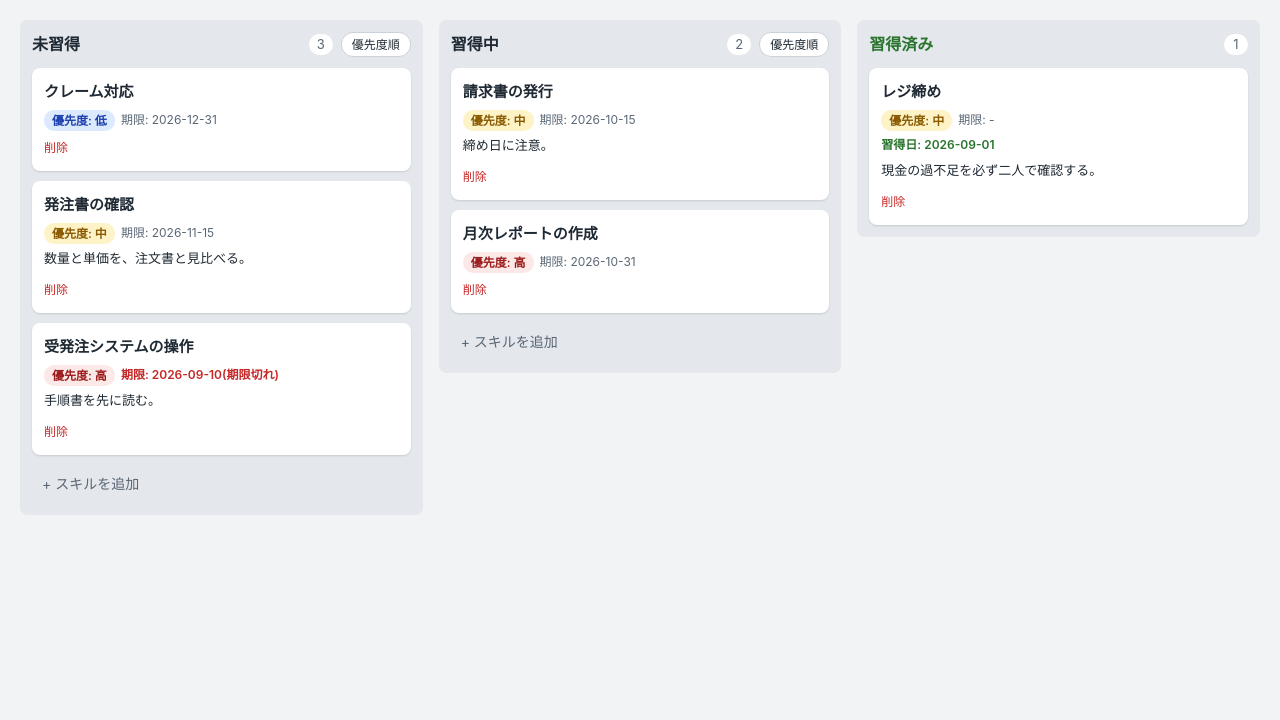
Test: Board: スキルの追加 › 入力して保存すると、API に追加して、その列の末尾にカードが増え、件数が変わり、フォームが閉じる
Click the button "+ スキルを追加" below "手順書を先に読む。" at (91, 483), box [32,465,411,503]
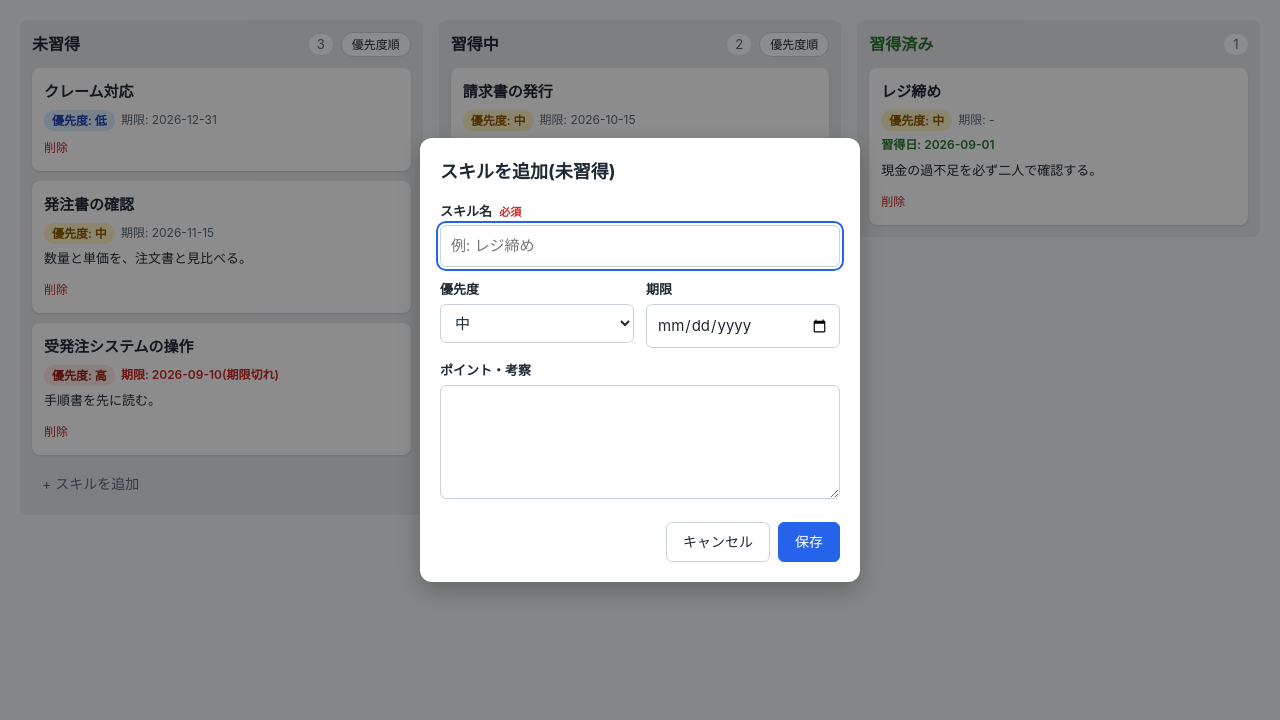
Type "新しいスキル" into the field labelled "スキル名 必須" at (640, 246), box [440,225,840,267]
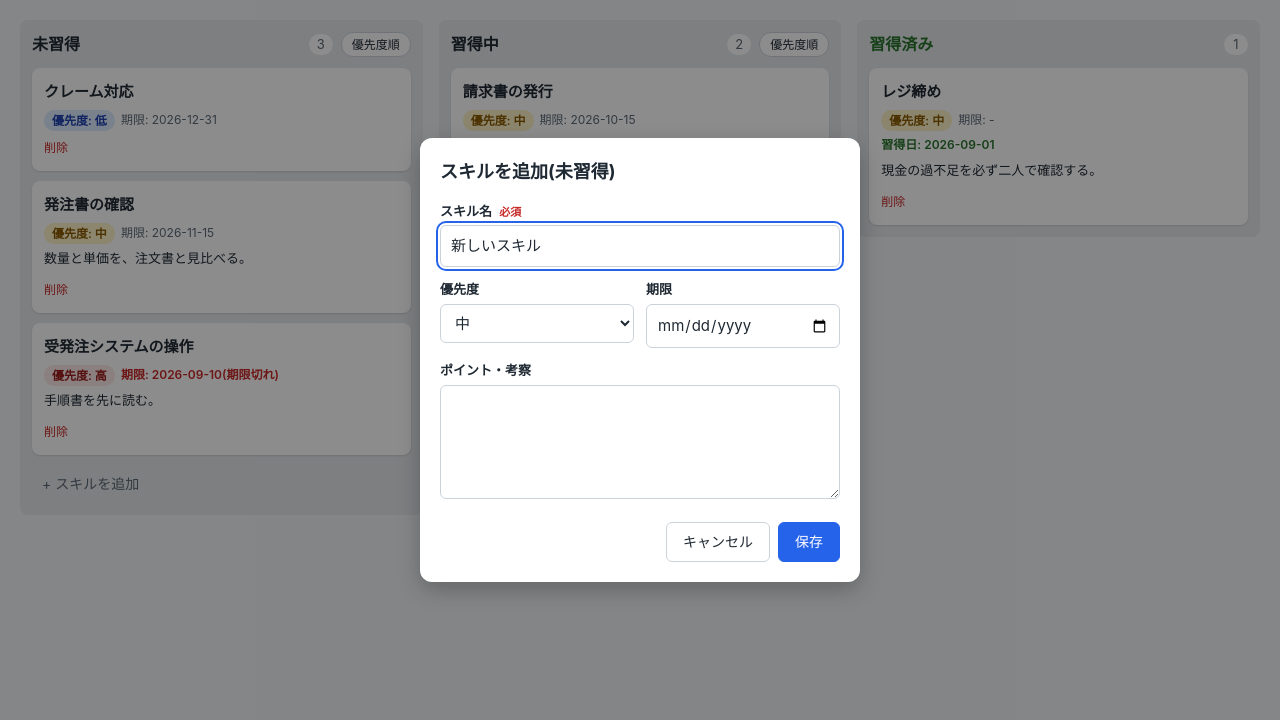
Click the button "保存" at (809, 542), box [778,522,840,562]
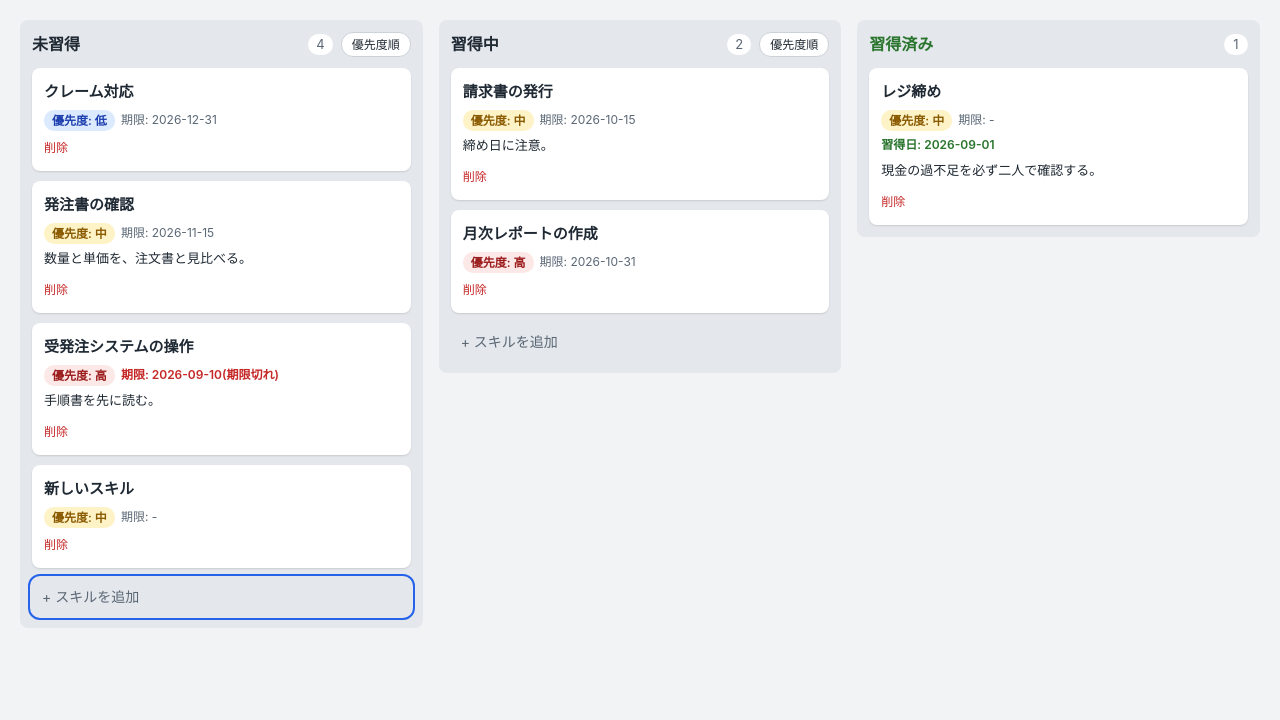
Expected: the dialog is gone
Expected: the element titled "スキルの件数" reads "4", [316,36,325,52]
